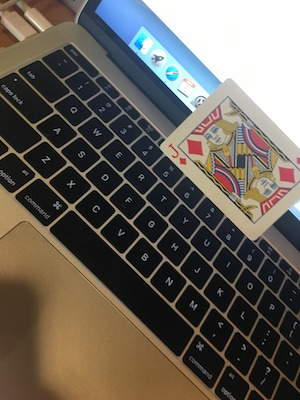JackOfDiamonds: (155, 75, 300, 243)
